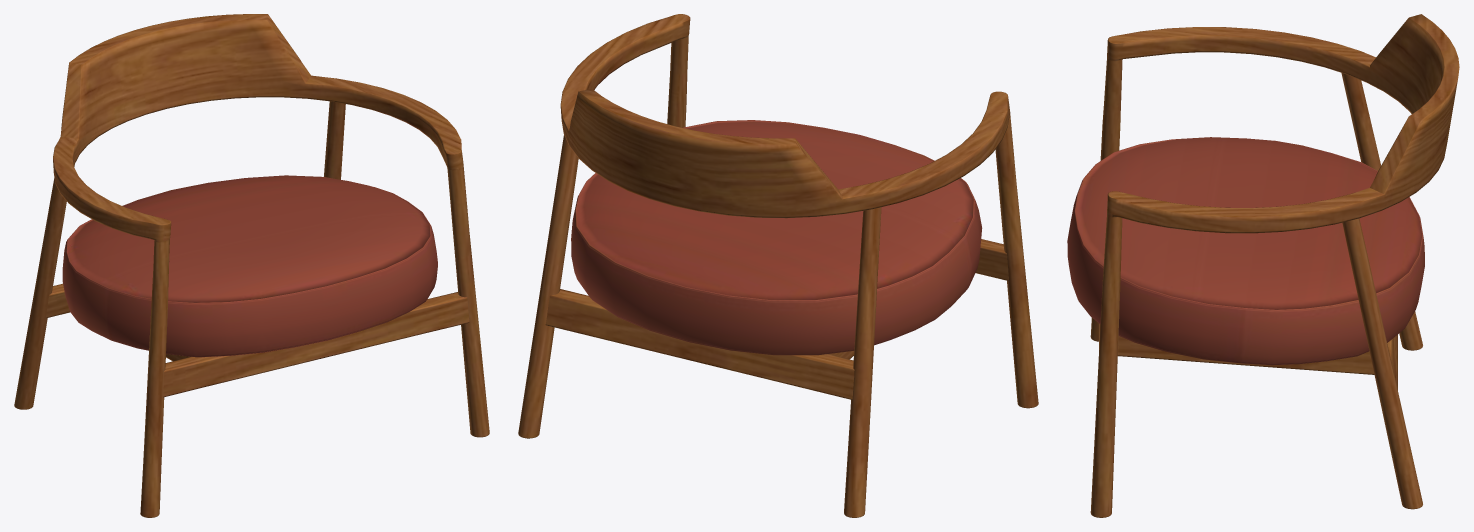
File: st_armchair_12_oak.gltf
The picture shows the model from 3 angles, left to right: view 1: azimuth 30°, elevation 25°; view 2: azimuth 150°, elevation 25°; view 3: azimuth 270°, elevation 25°; orthographic projection. The views are drawn at different scales.
Parts seen in each view (by area): view 1: Cube; view 2: Cube; view 3: Cube.
Boxes of the visible parts, left/top/right/bottom form: Cube: left=14, top=14, right=489, bottom=517; Cube: left=518, top=14, right=1038, bottom=517; Cube: left=1067, top=14, right=1459, bottom=517.
Bounding box in the file's own units: 0.7349 × 0.6517 × 0.642.
1 material, 1 textured.
